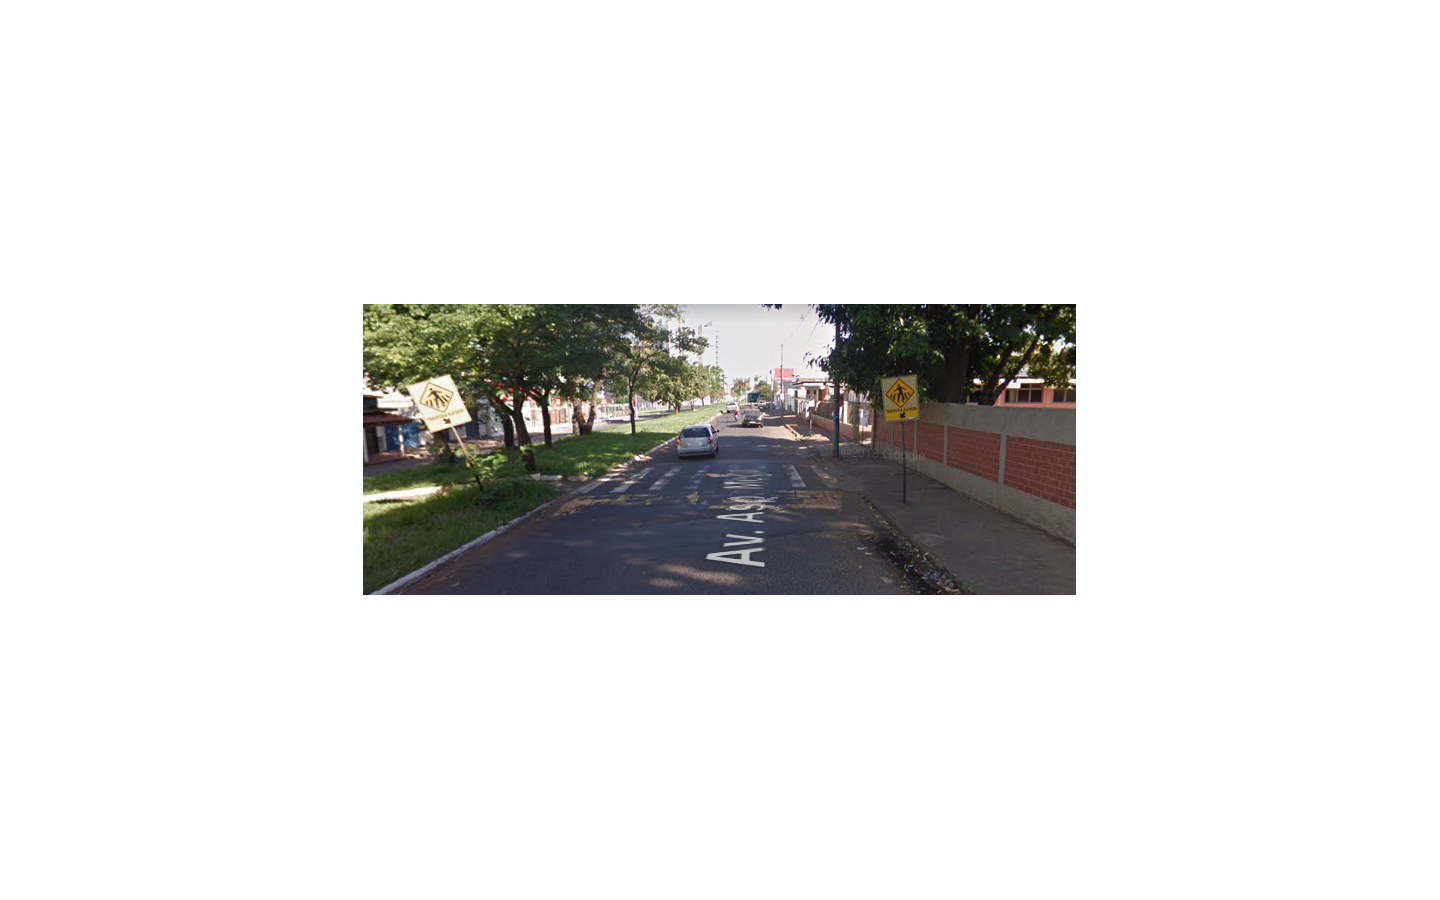telev: (404, 374, 472, 433), (880, 374, 919, 422)
